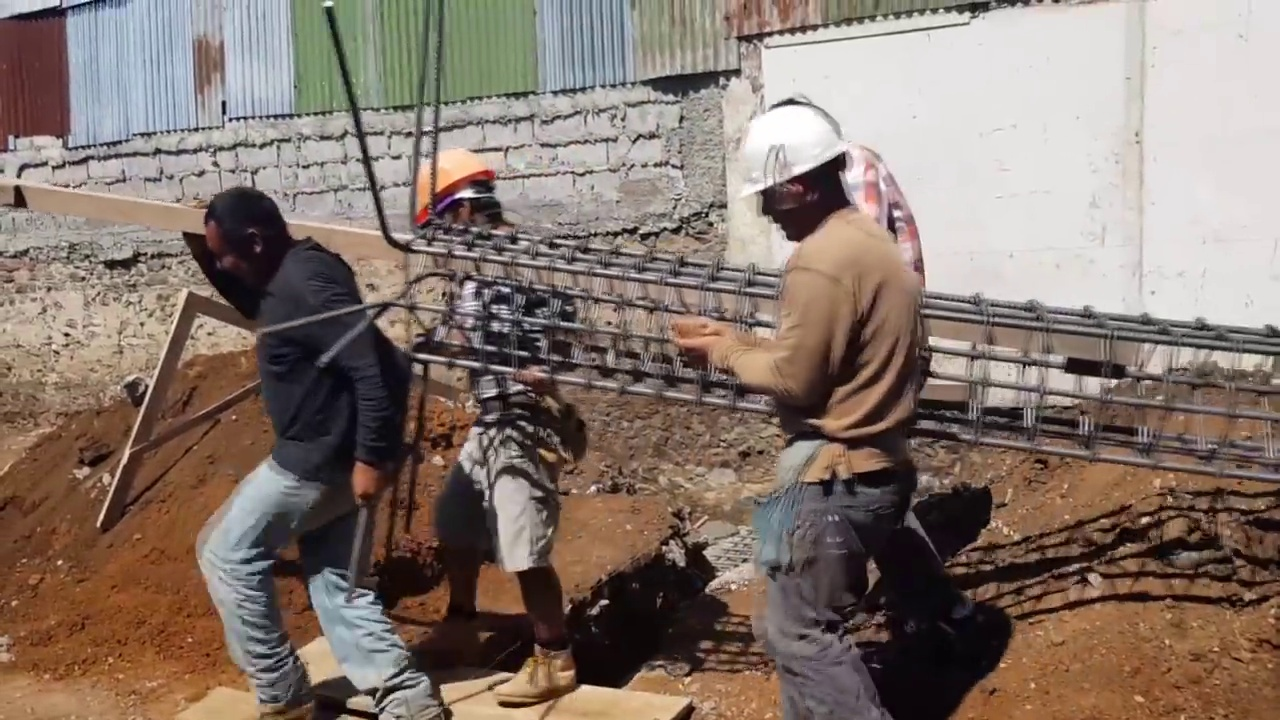helmet: (740, 103, 858, 209), (409, 145, 498, 221)
helmet-off: (201, 176, 287, 292)
helmet-on: (736, 94, 862, 260), (412, 131, 522, 273)
person: (661, 96, 934, 715), (166, 179, 422, 720), (417, 150, 585, 684)
